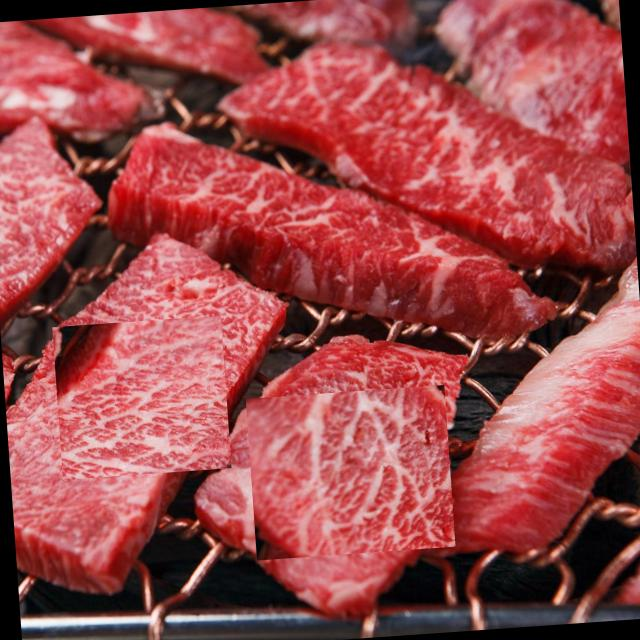beef: (253, 376, 446, 570), (52, 314, 232, 479)
